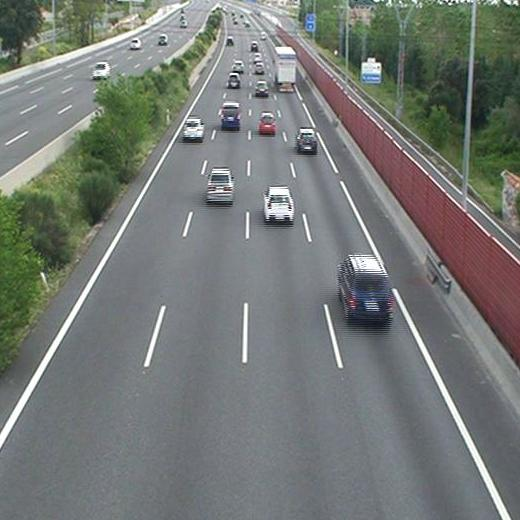car: (339, 256, 390, 321), (263, 187, 294, 220), (207, 169, 233, 201), (296, 129, 318, 151), (184, 119, 204, 138), (259, 113, 274, 134), (255, 82, 269, 95), (229, 74, 241, 88), (254, 63, 265, 74), (232, 61, 244, 71), (253, 52, 261, 60)
truck: (275, 45, 295, 92)
van: (221, 103, 240, 128)
